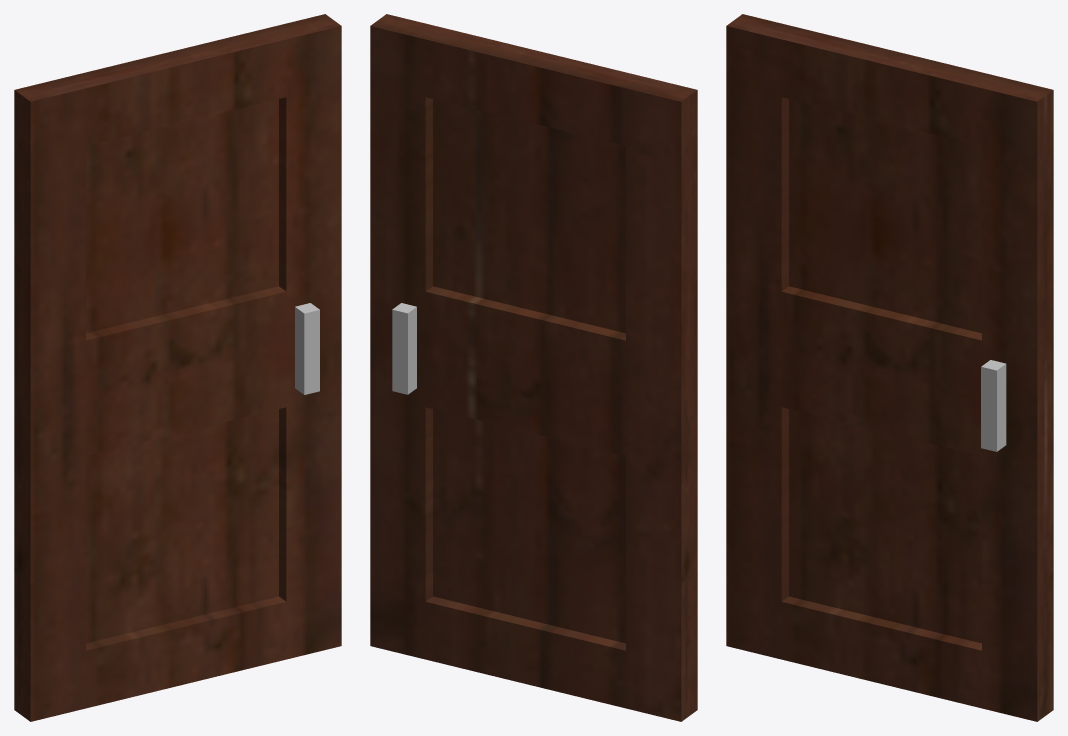
File: door2.fbx
The picture shows the model from 3 angles, left to right: view 1: azimuth 30°, elevation 25°; view 2: azimuth 150°, elevation 25°; view 3: azimuth 330°, elevation 25°; orthographic projection.
Visible parts, largest first — view 1: door, door knob; view 2: door, door knob; view 3: door, door knob.
Boxes of the visible parts, x1,y1,x2,y2 form: door: (14, 14, 341, 721); door knob: (295, 303, 319, 394); door: (370, 14, 697, 721); door knob: (392, 303, 416, 394); door: (726, 14, 1053, 721); door knob: (981, 360, 1006, 451).
Size of the model in its own units: 151 by 288 by 29.45.
